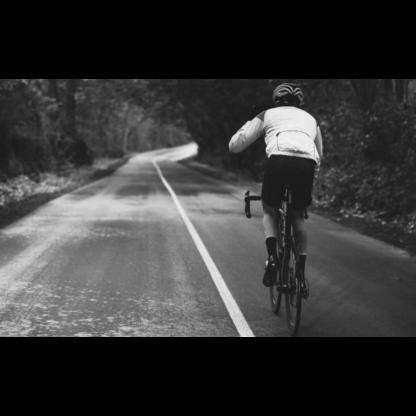Bicycle: (225, 184, 326, 338)
